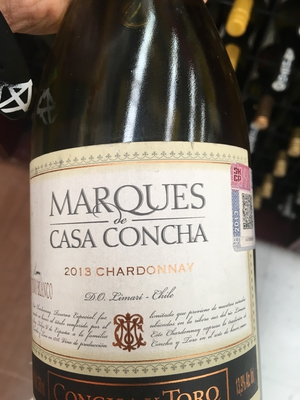marques de casa concha chardonnay: (33, 22, 247, 400)
